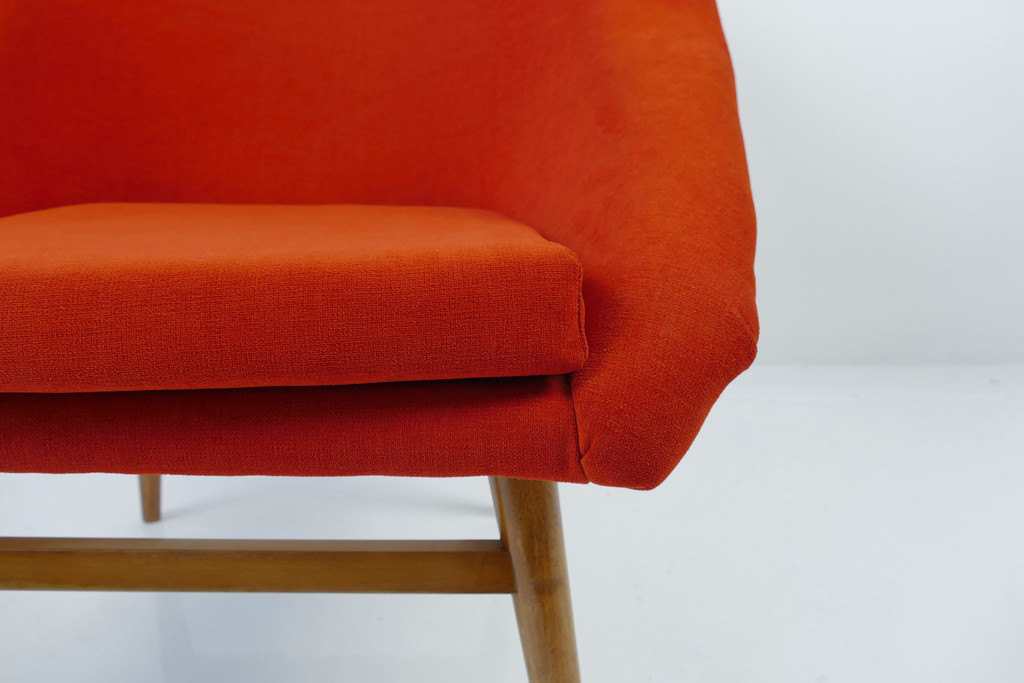chairs: (1, 2, 764, 675)
